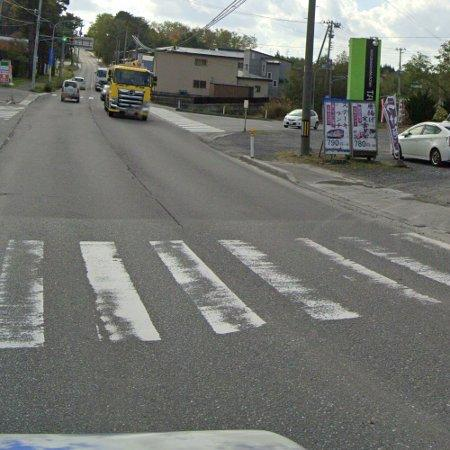crosswalks: (0, 229, 450, 361)
